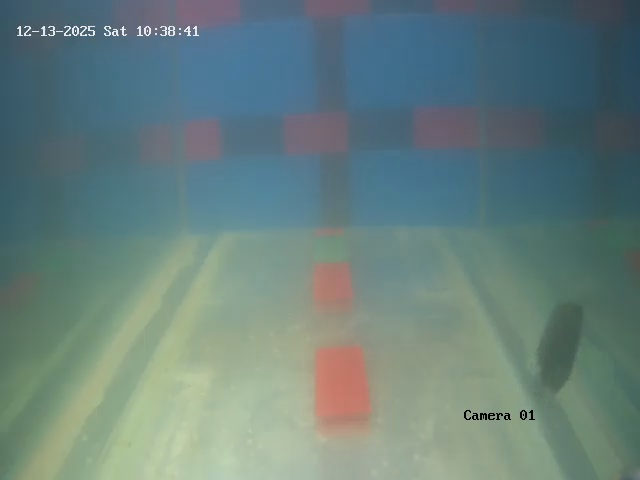fish: (530, 306, 587, 393)
